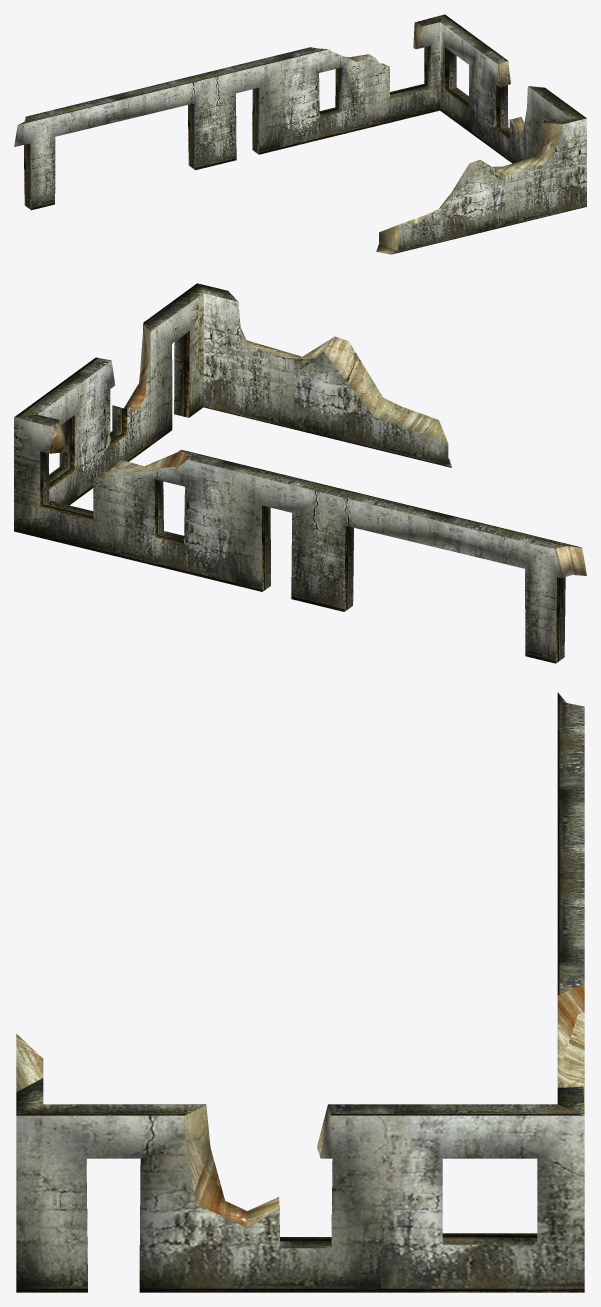
File: destroyed_walls_02.glb
3 renders of one model, top to bottom at view 1: azimuth 30°, elevation 25°; view 2: azimuth 150°, elevation 25°; view 3: azimuth 270°, elevation 25°, orthographic. The views are drawn at different scales.
Parts seen in each view (by area): view 1: wall.jpg__; view 2: wall.jpg__; view 3: wall.jpg__.
Part boxes in pixels (<box>): wall.jpg__: <box>14,14,586,254</box>; wall.jpg__: <box>14,283,586,663</box>; wall.jpg__: <box>16,692,584,1292</box>.
Size of the model in its own units: 21.35 by 4.12 by 12.
Materials: 1 (1 with a texture image).
